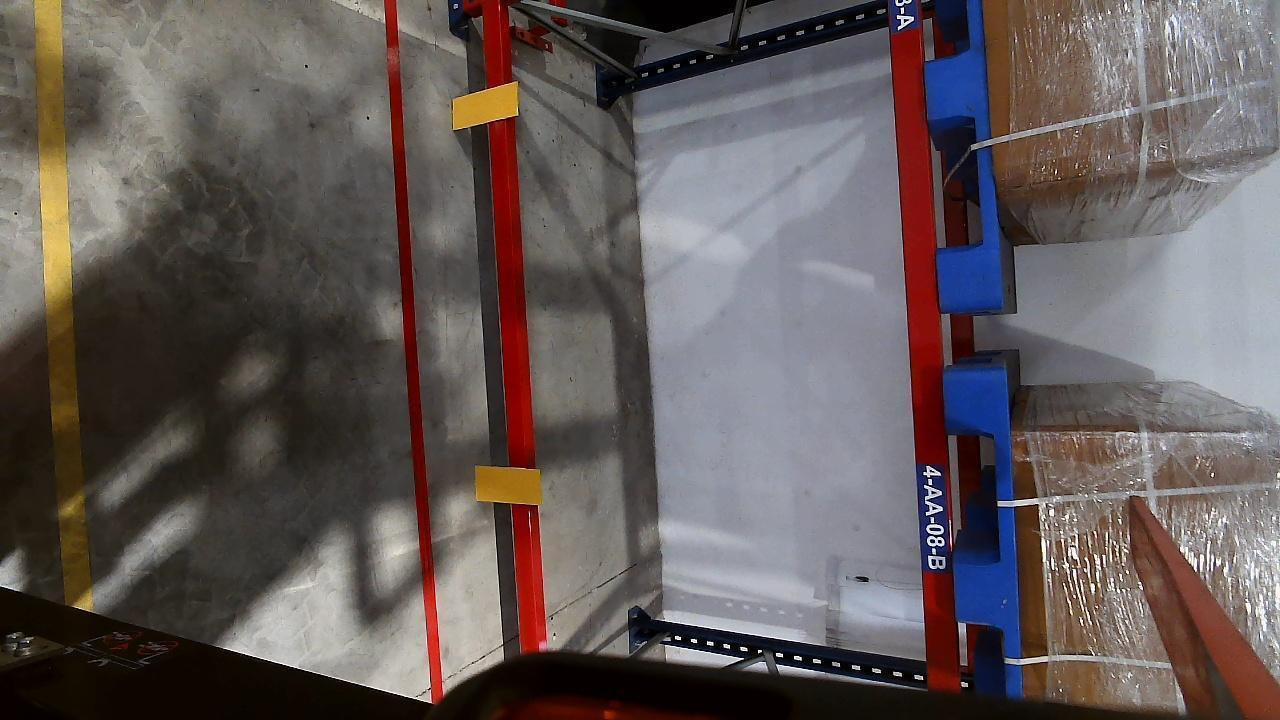red_line: (387, 0, 442, 702)
yellow_line: (29, 0, 87, 609)
